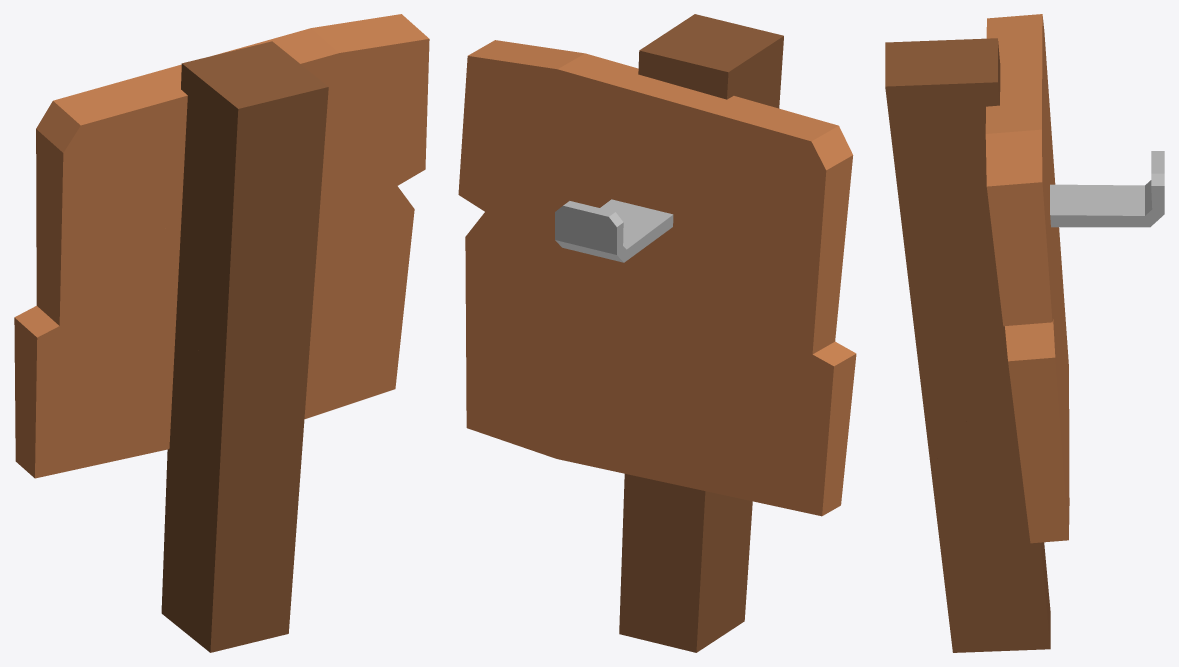
The model's file is float_holder_broken.fbx.
3 renders of one model, left to right at view 1: azimuth 30°, elevation 25°; view 2: azimuth 150°, elevation 25°; view 3: azimuth 270°, elevation 25°, orthographic.
Parts seen in each view (by area): view 1: float_holder_broken_Part_1, float_holder_broken_Part_3, float_holder_broken_Part_4, float_holder_broken_Part_6, float_holder_broken_Part_5, float_holder_broken_Part_2; view 2: float_holder_broken_Part_3, float_holder_broken_Part_1, float_holder_broken_Part_6, float_holder_broken_Part_2, float_holder_broken_Part_5; view 3: float_holder_broken_Part_1, float_holder_broken_Part_6, float_holder_broken_Part_2, float_holder_broken_Part_4, float_holder_broken_Part_5, float_holder_broken_Part_3.
Part boxes in pixels (<box>): float_holder_broken_Part_1: <box>36,21,414,255</box>; float_holder_broken_Part_3: <box>14,209,281,516</box>; float_holder_broken_Part_4: <box>131,213,319,475</box>; float_holder_broken_Part_6: <box>314,14,429,285</box>; float_holder_broken_Part_5: <box>161,475,299,652</box>; float_holder_broken_Part_2: <box>284,233,411,479</box>; float_holder_broken_Part_3: <box>624,252,856,532</box>; float_holder_broken_Part_1: <box>509,14,853,257</box>; float_holder_broken_Part_6: <box>458,40,732,361</box>; float_holder_broken_Part_2: <box>465,259,640,491</box>; float_holder_broken_Part_5: <box>619,487,752,652</box>; float_holder_broken_Part_1: <box>885,14,1052,217</box>; float_holder_broken_Part_6: <box>951,151,1164,384</box>; float_holder_broken_Part_2: <box>931,350,1069,543</box>; float_holder_broken_Part_4: <box>901,217,1008,467</box>; float_holder_broken_Part_5: <box>934,493,1050,652</box>; float_holder_broken_Part_3: <box>1050,117,1069,465</box>.
Size of the model in its own units: 96.3 by 138 by 60.9.
Materials: 1 (1 with a texture image).
